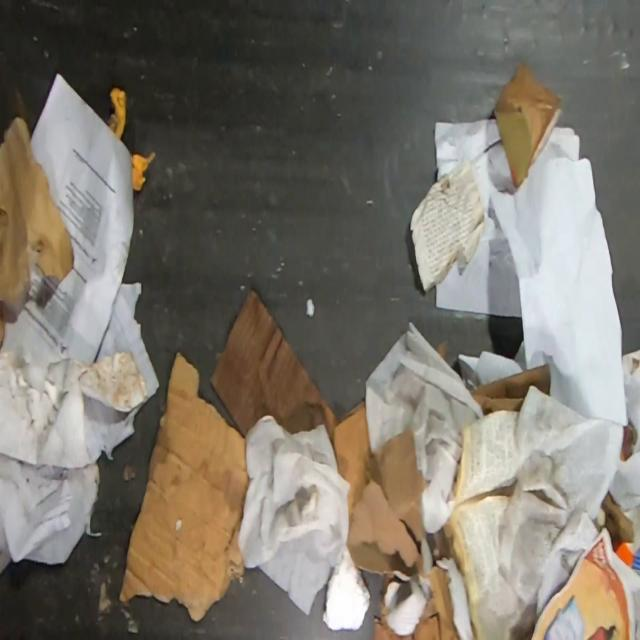cardboard: (0, 115, 148, 469), (118, 350, 249, 621), (333, 398, 477, 640), (208, 288, 340, 450), (492, 60, 563, 194), (467, 362, 551, 416), (434, 339, 447, 359)
